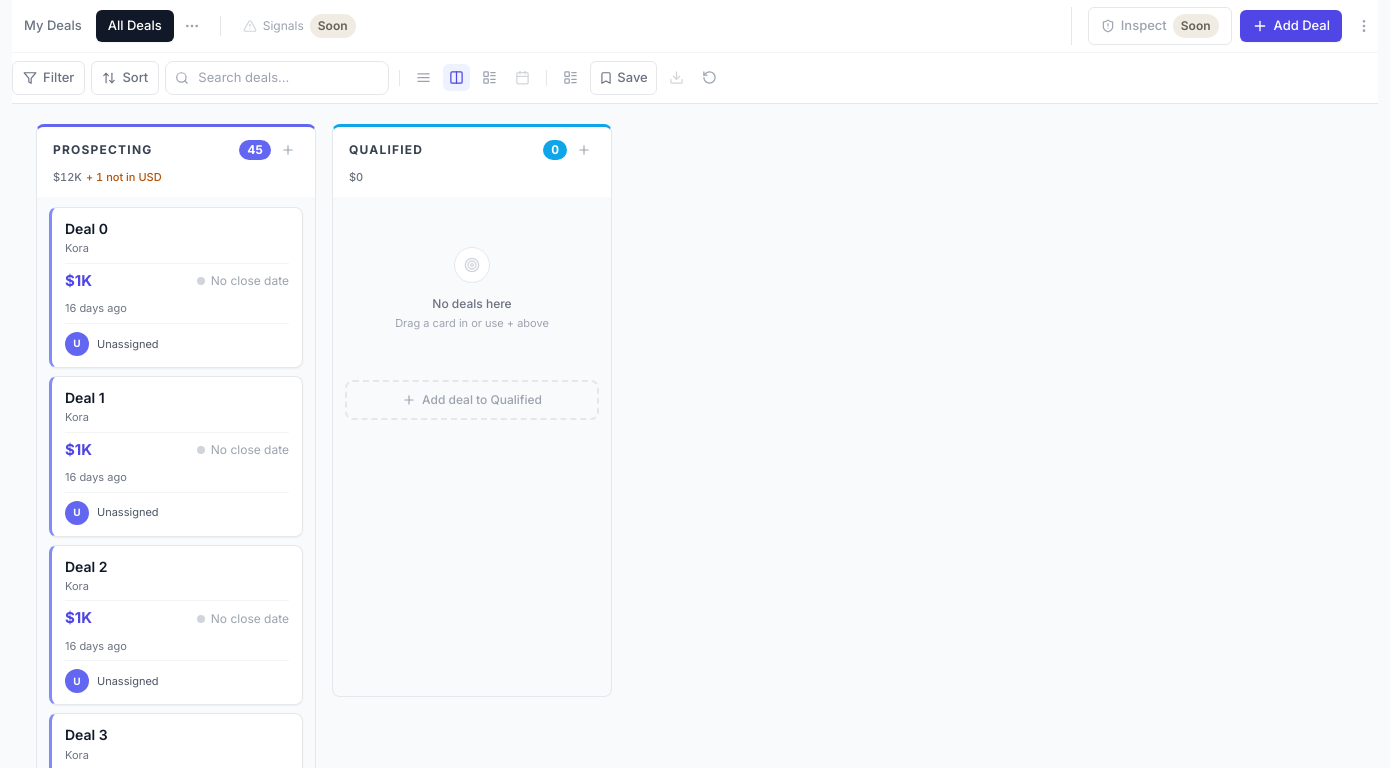
Test: Deals board — what the server cannot run yet is "Coming soon" › close date / value / source / account filters are disabled; owner offers only All and Me
Click the button "Filter" at (49, 78), box [12,61,85,94]
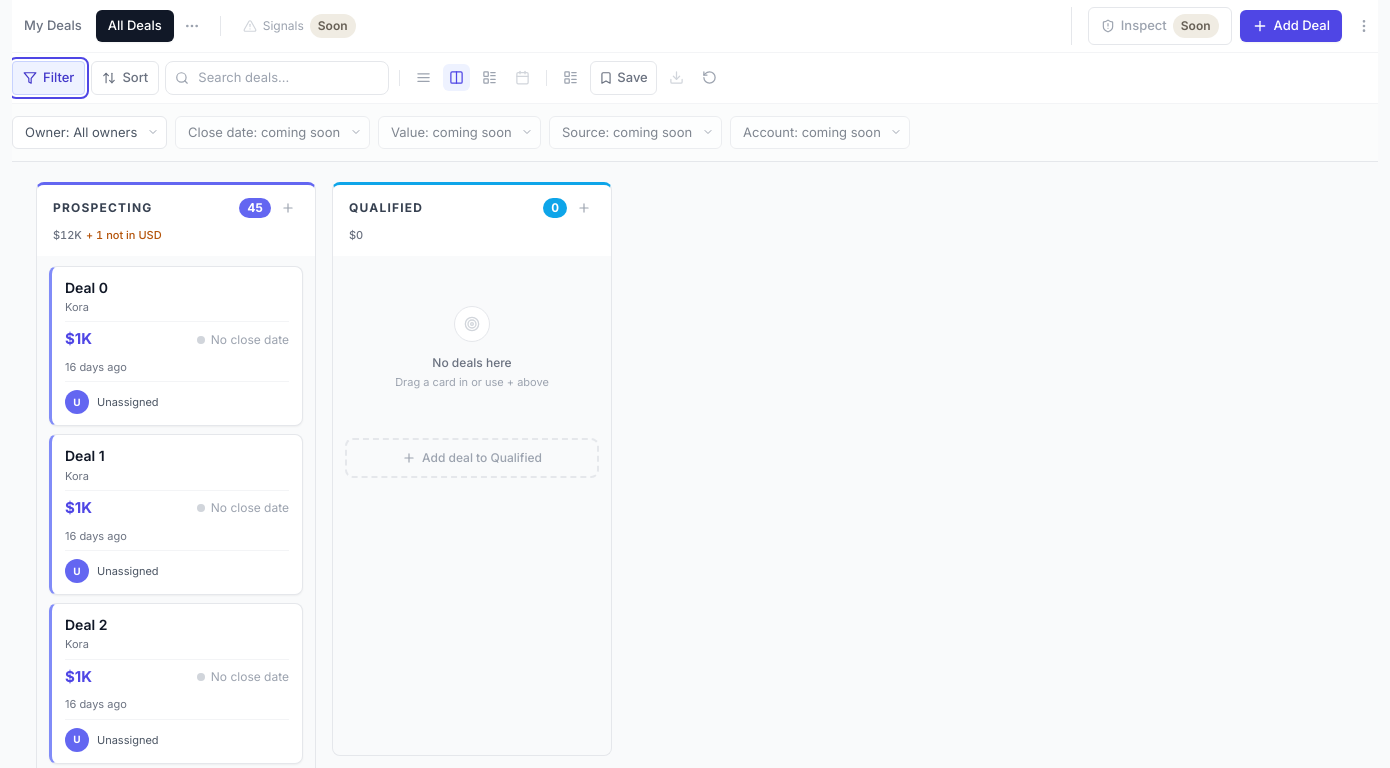
Expected: the dropdown named "Value (coming soon)" is disabled, [378,116,541,149]
